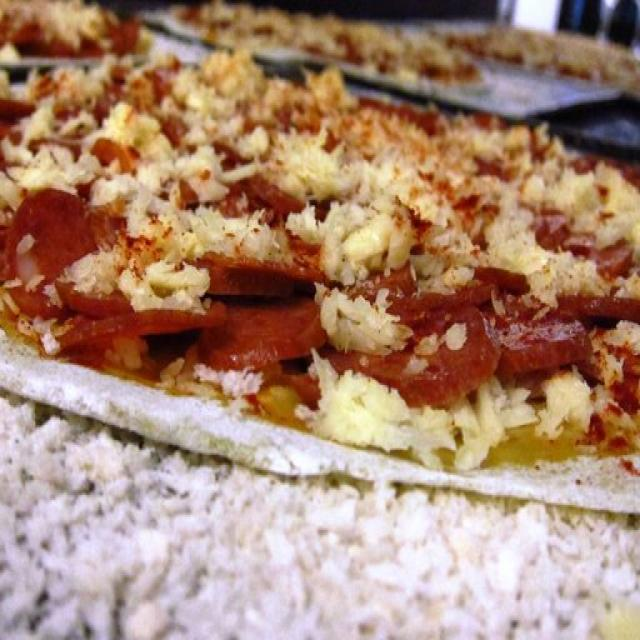Cheese: (111, 182, 282, 256), (308, 359, 414, 449), (112, 109, 225, 180), (498, 214, 594, 296), (298, 212, 419, 272), (187, 64, 266, 150), (317, 286, 410, 356), (354, 159, 451, 226), (213, 5, 338, 53), (459, 144, 548, 204), (553, 175, 629, 242), (264, 136, 350, 193), (115, 254, 204, 308), (0, 155, 109, 198), (514, 35, 626, 76), (0, 0, 105, 36), (350, 31, 448, 67), (421, 236, 472, 291), (543, 373, 590, 429), (467, 400, 508, 456), (68, 255, 110, 298), (612, 318, 640, 347)
Pizza: (0, 52, 640, 511), (140, 2, 640, 96), (1, 0, 153, 65)
